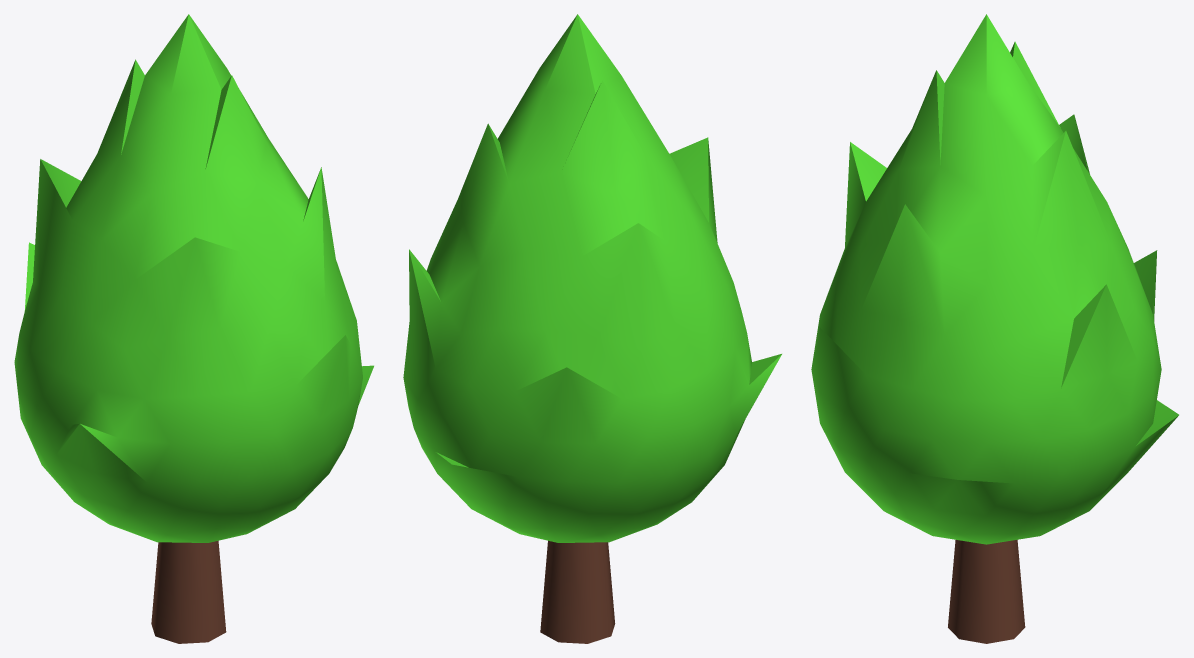
Rendered from el_tree.fbx.
3 renders of one model, left to right at view 1: azimuth 30°, elevation 25°; view 2: azimuth 150°, elevation 25°; view 3: azimuth 270°, elevation 25°, orthographic.
Visible parts, largest first — view 1: Icosphere.001, Cylinder; view 2: Icosphere.001, Cylinder; view 3: Icosphere.001, Cylinder.
Part boxes in pixels (box(x1,y1,x2,y2)): Icosphere.001: box(14, 14, 373, 542); Cylinder: box(151, 540, 226, 643); Icosphere.001: box(403, 14, 781, 542); Cylinder: box(540, 540, 615, 643); Icosphere.001: box(811, 14, 1178, 544); Cylinder: box(948, 539, 1025, 643).
Bounding box in the file's own units: 216 × 387 × 210.
